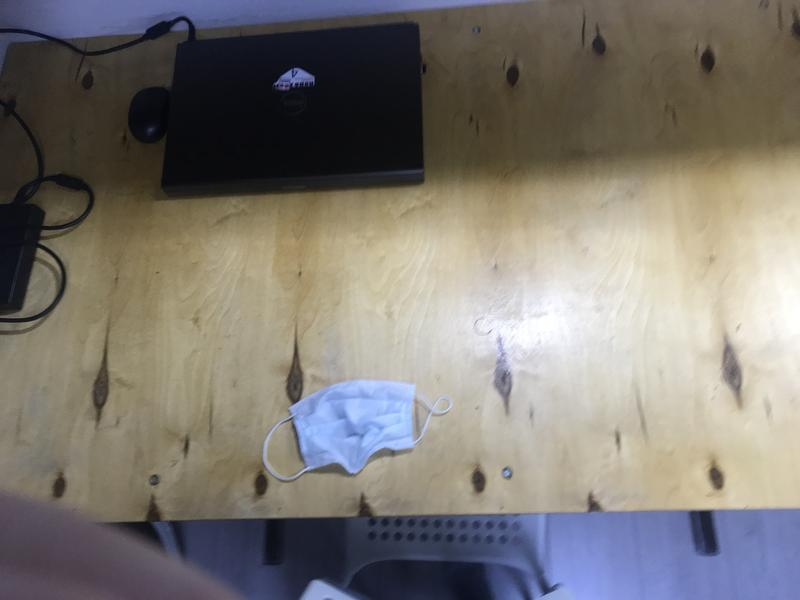medical_mask: (263, 381, 452, 483)
